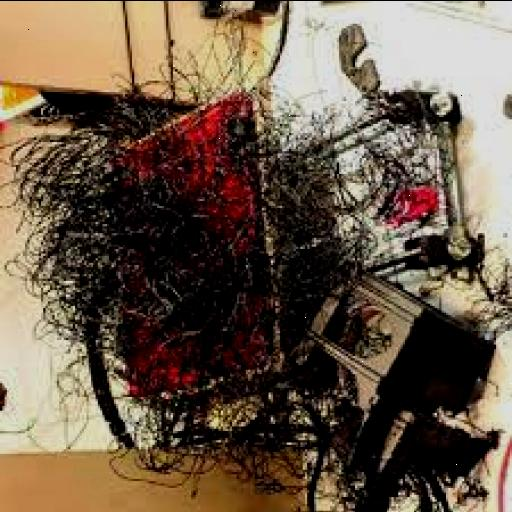spaghetti: (40, 69, 443, 492)
